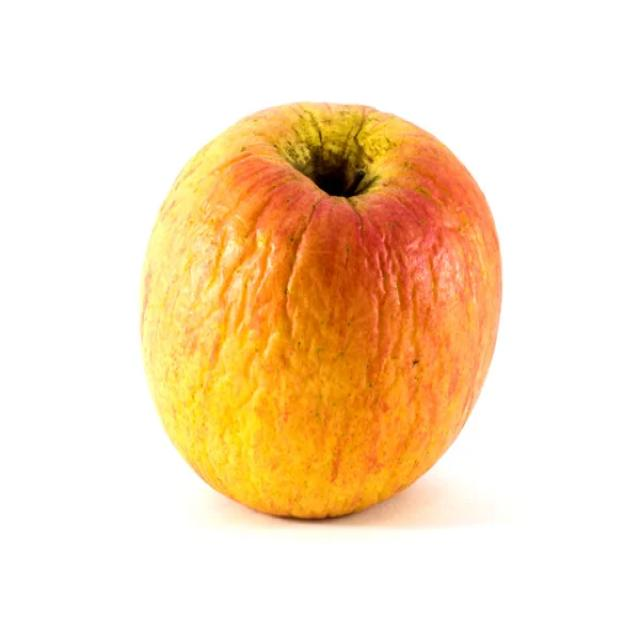overripe: (140, 95, 508, 515)
